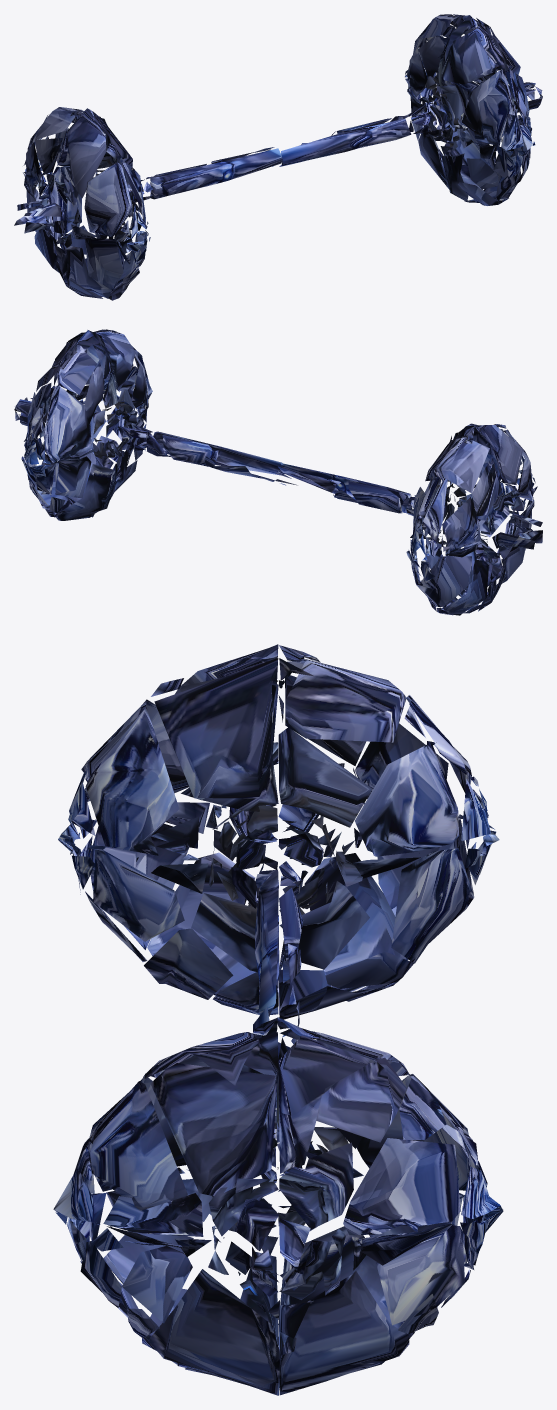
Rendered from MAHWORLD_GYM_BARBELL_L2.glb.
3 renders of one model, top to bottom at view 1: azimuth 30°, elevation 25°; view 2: azimuth 150°, elevation 25°; view 3: azimuth 270°, elevation 25°, orthographic. The views are drawn at different scales.
Parts seen in each view (by area): view 1: MAHWORLD_GYM_BARBELL_L2; view 2: MAHWORLD_GYM_BARBELL_L2; view 3: MAHWORLD_GYM_BARBELL_L2.
Part boxes in pixels (box(x1,y1,x2,y2)): MAHWORLD_GYM_BARBELL_L2: box(14, 14, 542, 300); MAHWORLD_GYM_BARBELL_L2: box(14, 329, 542, 615); MAHWORLD_GYM_BARBELL_L2: box(53, 644, 503, 1395).
Size of the model in its own units: 0.9768 by 0.3351 by 0.3664.
1 material, 1 textured.
